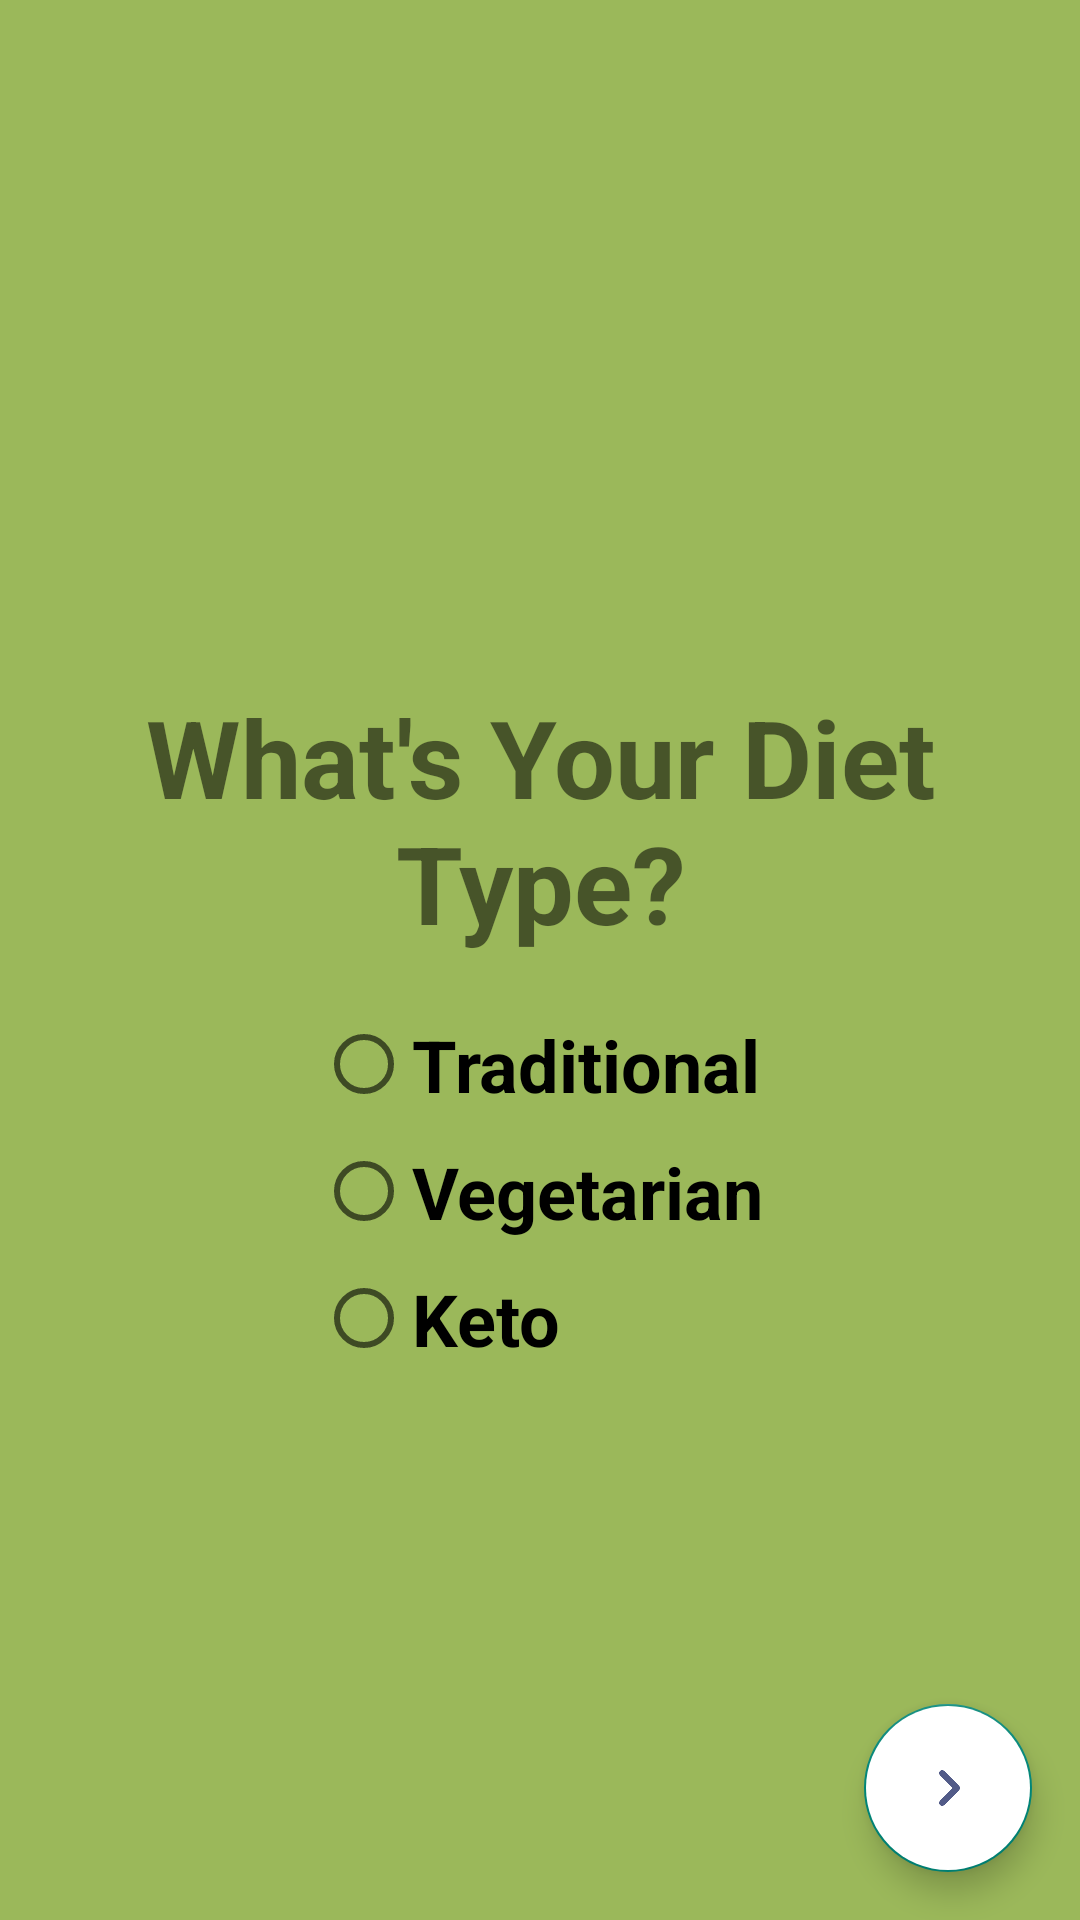

Icon click points for this 1080px x 1920px phone screenshot, format (x=x, y=y):
next: (x=948, y=1788)
